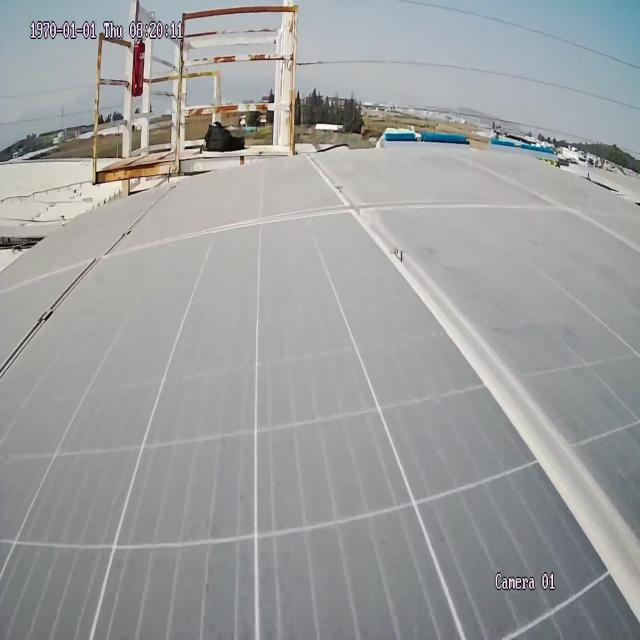interior panel: (305, 159, 640, 622), (0, 185, 179, 383)
outher panel: (0, 227, 47, 287)
